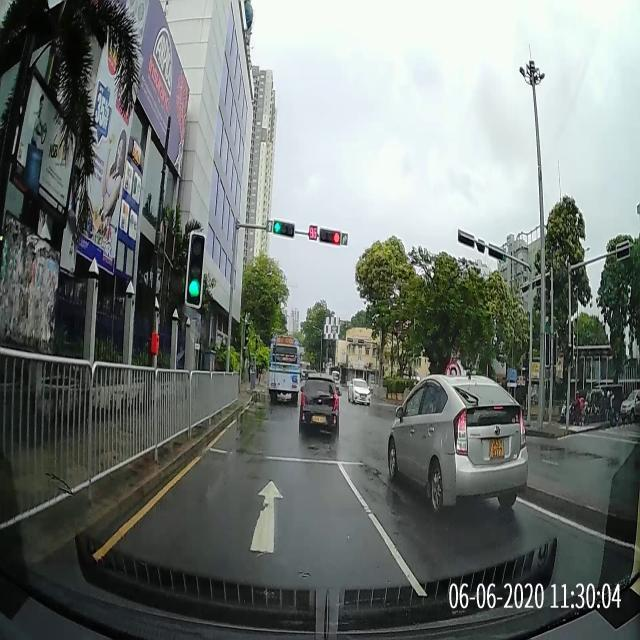forward: (105, 462, 392, 558)
